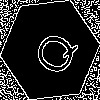Q: (25, 25, 81, 80)
